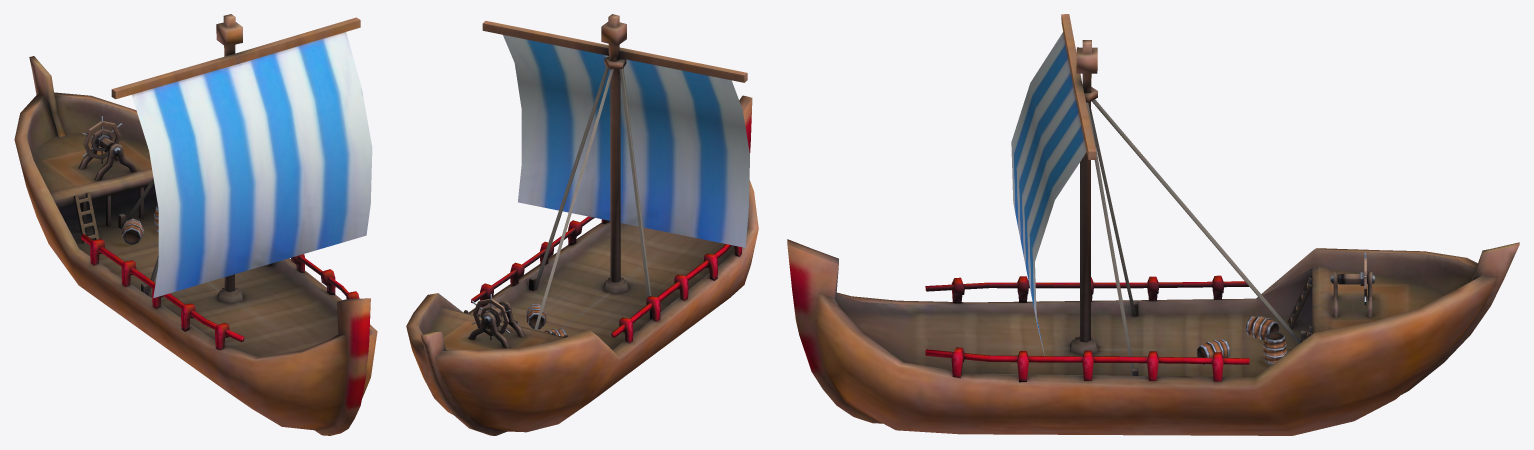
The model's file is Caravel.glb.
3 renders of one model, left to right at view 1: azimuth 30°, elevation 25°; view 2: azimuth 150°, elevation 25°; view 3: azimuth 270°, elevation 25°, orthographic. The views are drawn at different scales.
Parts seen in each view (by area): view 1: Caravel; view 2: Caravel; view 3: Caravel.
Part boxes in pixels (x1,y1,x2,y2): Caravel: [14, 14, 377, 435]; Caravel: [406, 14, 758, 435]; Caravel: [787, 14, 1519, 435].
Size of the model in its own units: 2.85 by 3.71 by 6.41.
Materials: 1 (1 with a texture image).
